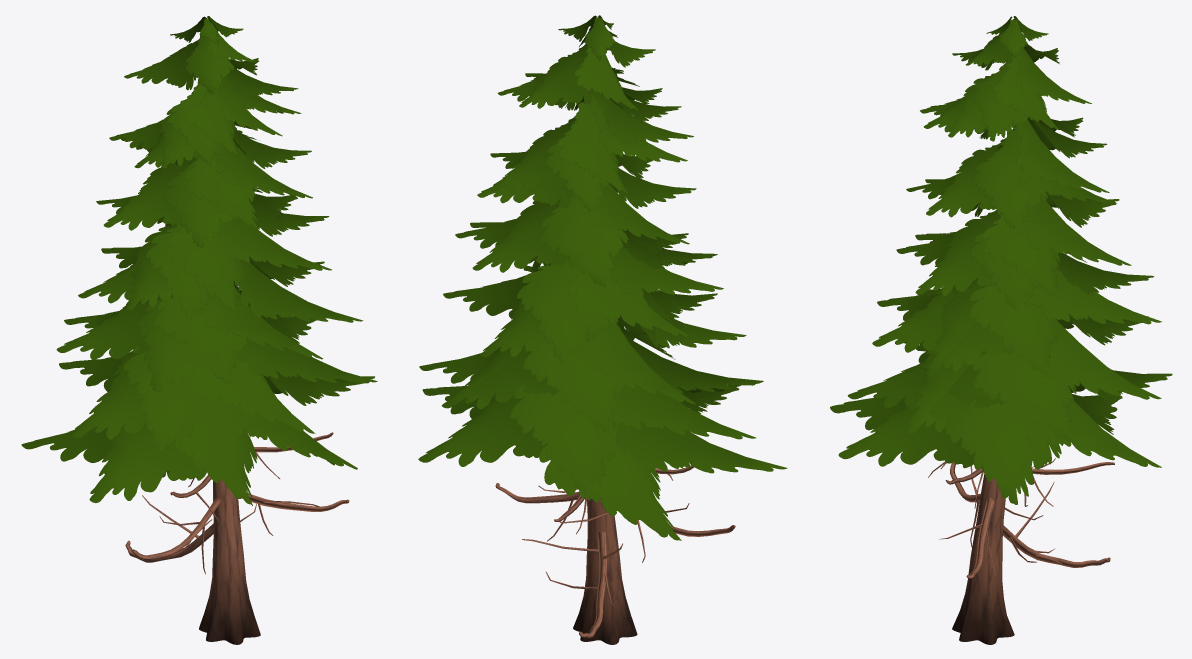
Rendered from Pine_4.gltf.
3 renders of one model, left to right at view 1: azimuth 30°, elevation 25°; view 2: azimuth 150°, elevation 25°; view 3: azimuth 270°, elevation 25°, orthographic. The views are drawn at different scales.
Parts seen in each view (by area): view 1: Pine_4; view 2: Pine_4; view 3: Pine_4.
Part boxes in pixels (x1,y1,x2,y2): Pine_4: [21, 16, 377, 644]; Pine_4: [418, 15, 787, 644]; Pine_4: [830, 16, 1172, 644].
Bounding box in the file's own units: 5.8 × 10.24 × 5.37.
2 materials, 2 textured.
